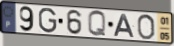6: (65, 9, 83, 36)
9: (19, 6, 36, 33)
A: (113, 14, 136, 39)
G: (38, 7, 59, 34)
O: (137, 13, 156, 41)
Q: (87, 9, 107, 38)
